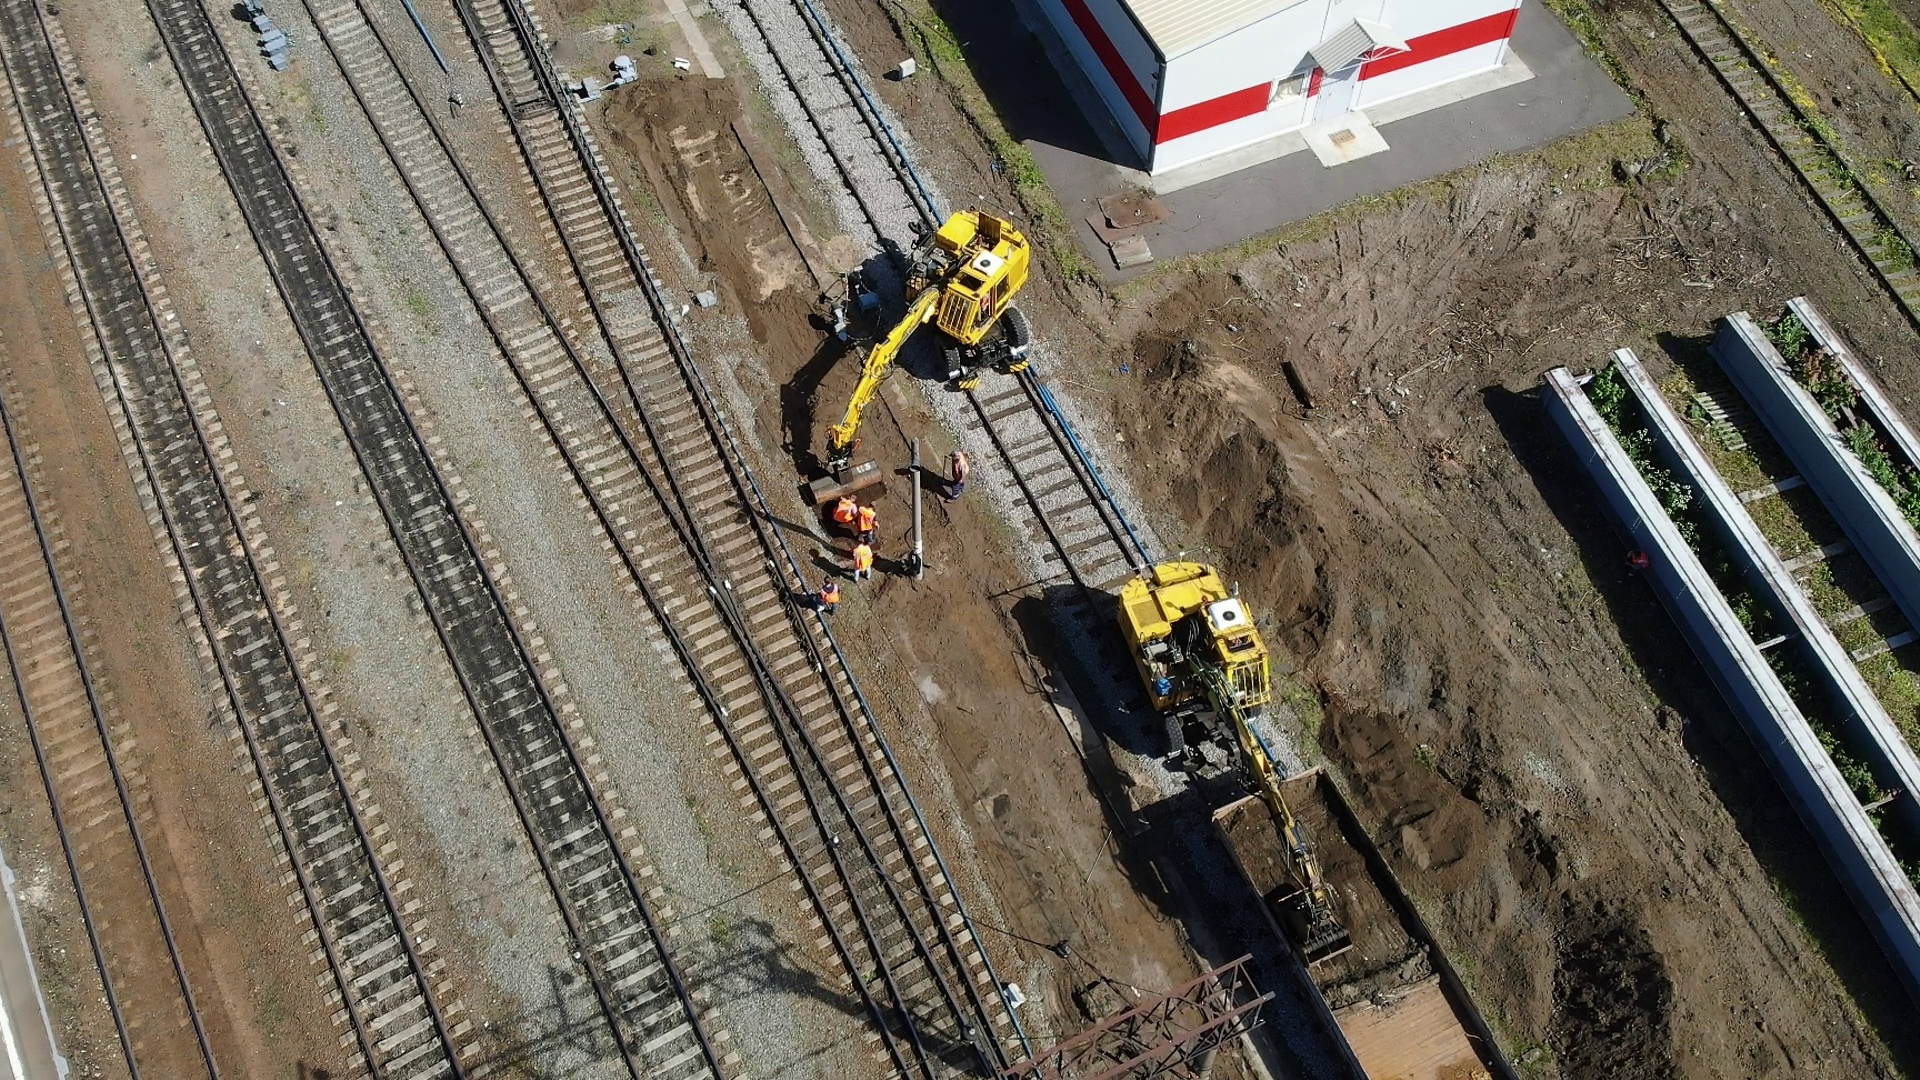kjtv: (1120, 551, 1269, 748), (907, 215, 1036, 376)
